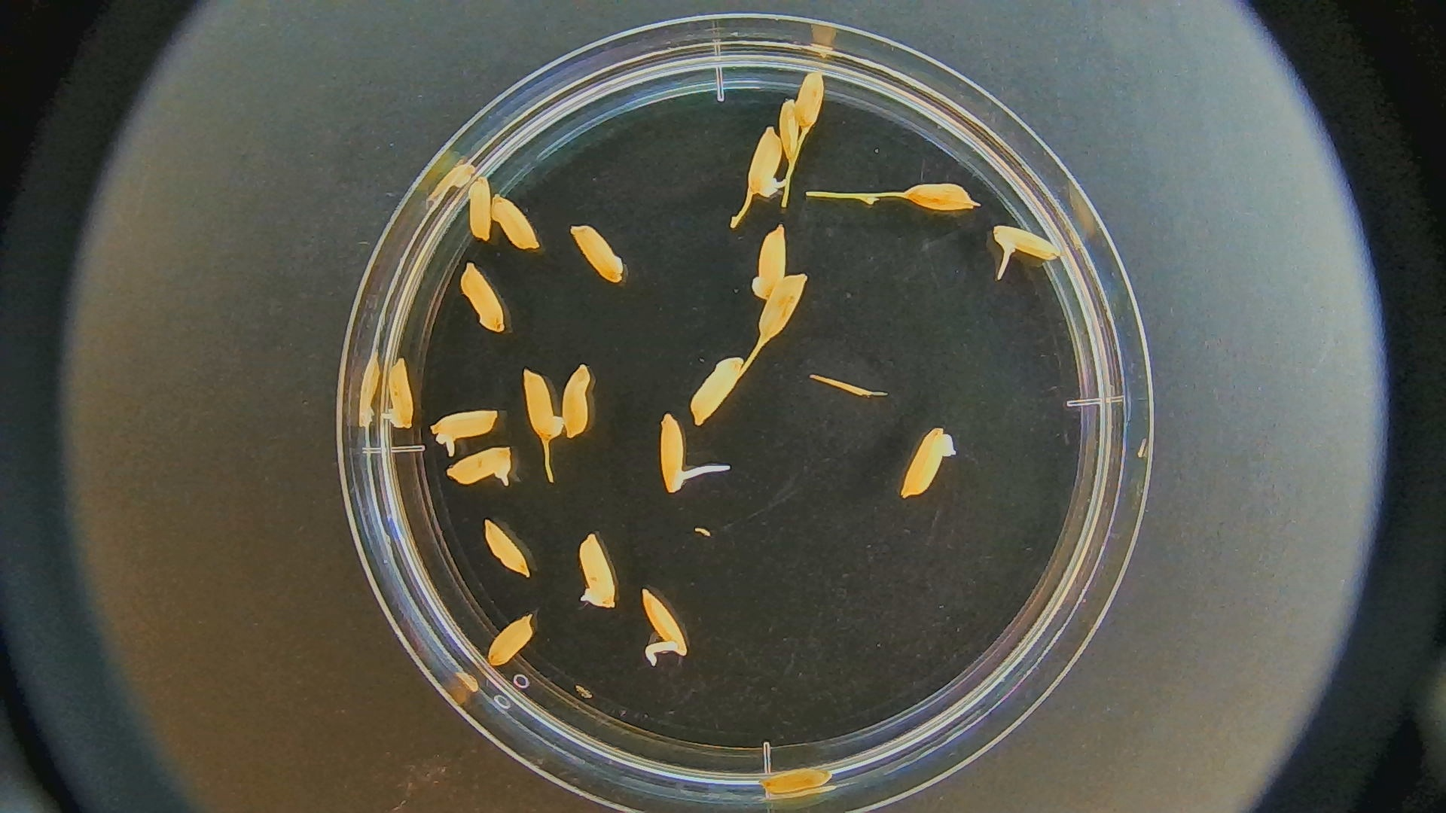no: (452, 255, 522, 344), (896, 425, 972, 505), (570, 215, 637, 290), (369, 353, 422, 440), (759, 269, 810, 355), (517, 358, 565, 449), (480, 604, 548, 665), (745, 219, 791, 309), (688, 349, 742, 425), (575, 525, 621, 611), (472, 517, 534, 580), (490, 188, 545, 257), (904, 175, 985, 218), (561, 358, 596, 446), (757, 762, 834, 801), (456, 169, 493, 250), (793, 65, 829, 126), (777, 98, 803, 163)
yes: (640, 588, 693, 659), (743, 126, 789, 202), (447, 444, 515, 489), (652, 410, 688, 492), (990, 224, 1055, 265), (434, 410, 498, 447)
